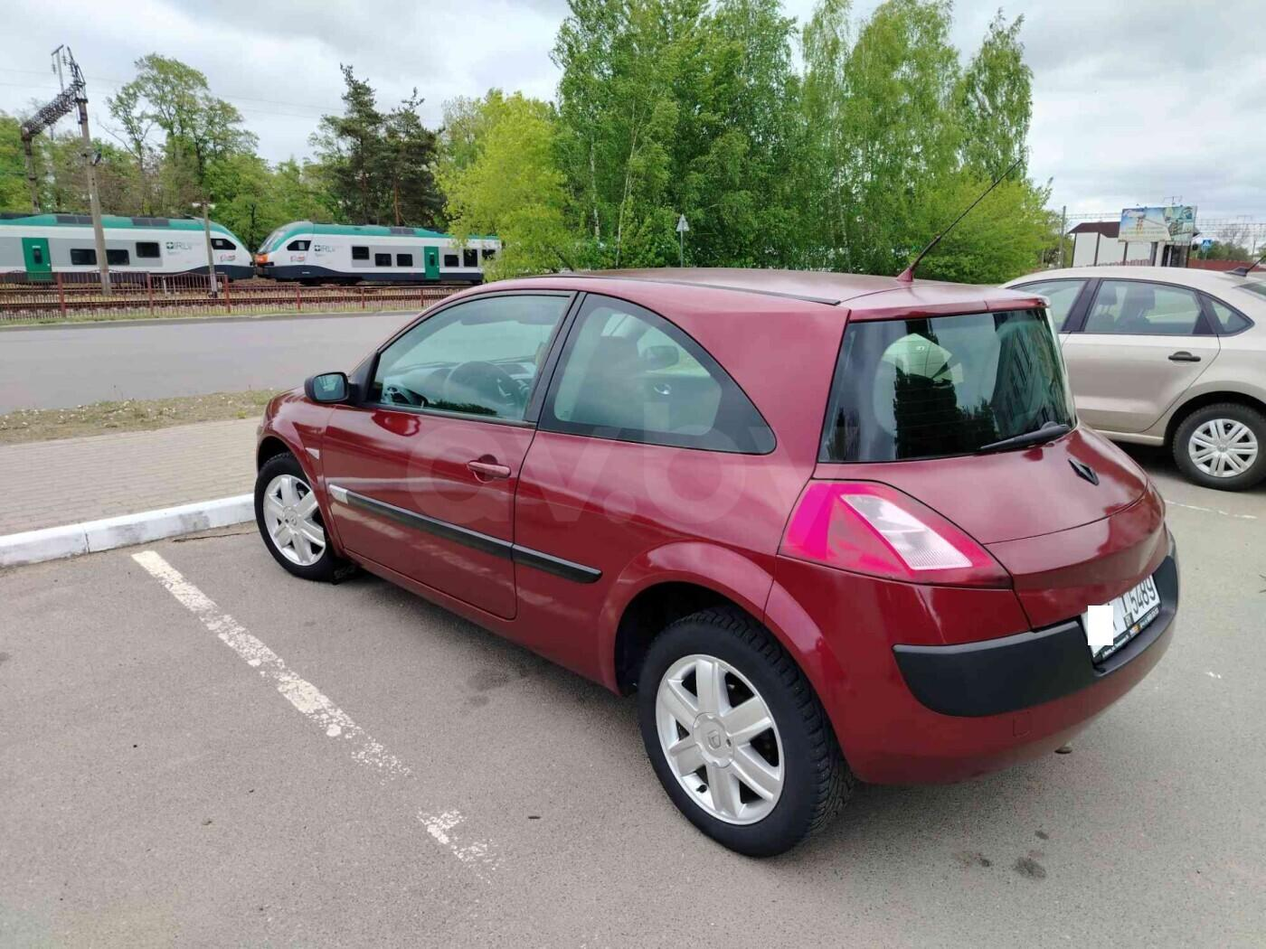Megane_2002-2006: (243, 262, 1179, 855)
